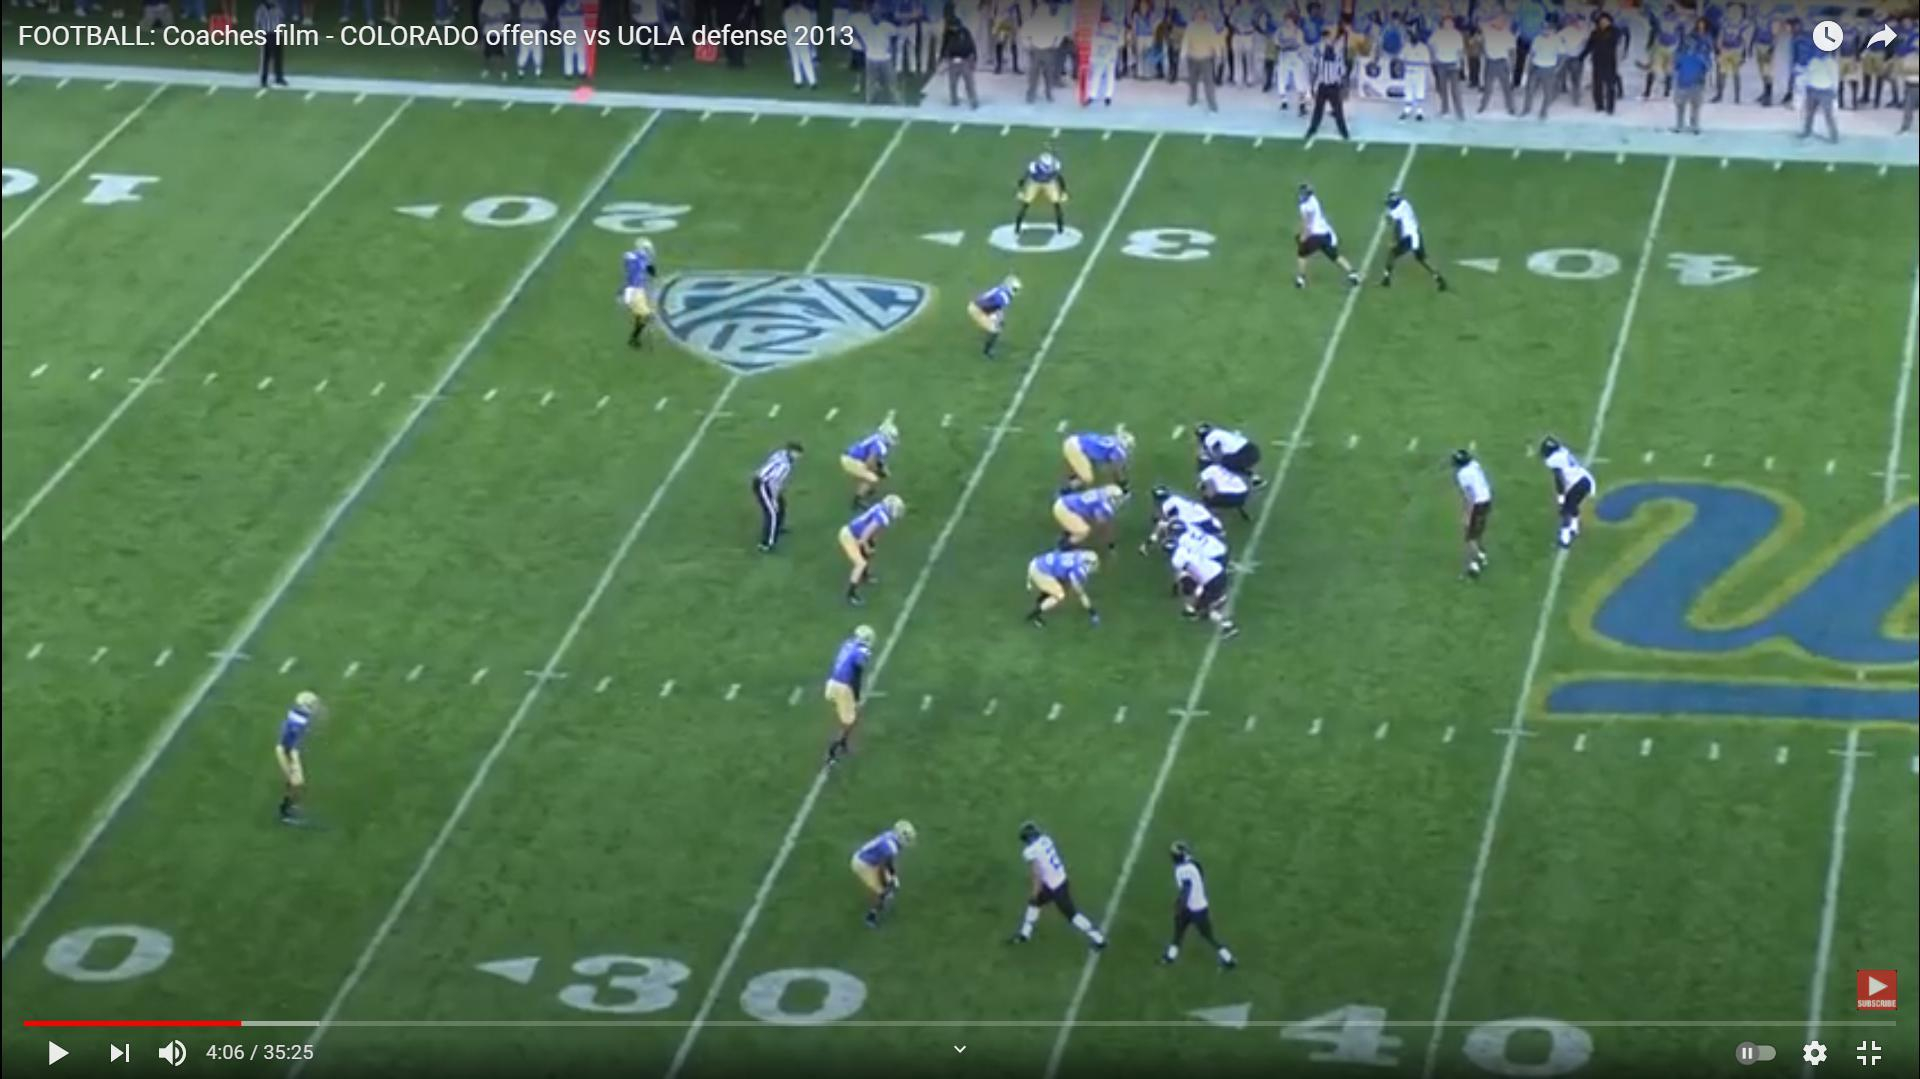player: (1010, 816, 1116, 955), (1155, 832, 1244, 978), (821, 620, 882, 770), (1289, 182, 1369, 294), (1165, 540, 1244, 646), (845, 819, 914, 940), (1376, 186, 1450, 298), (835, 493, 904, 609), (277, 690, 330, 840), (1020, 548, 1110, 635), (1447, 444, 1501, 586), (1542, 430, 1602, 552), (1008, 153, 1084, 249), (618, 238, 675, 356), (1052, 425, 1137, 501), (1144, 484, 1222, 562), (1043, 485, 1125, 559), (841, 423, 904, 514), (966, 274, 1022, 367), (1190, 420, 1262, 491), (1195, 455, 1263, 528), (1165, 511, 1234, 571)
ref: (748, 441, 801, 557), (1307, 50, 1359, 149), (254, 28, 298, 93)
